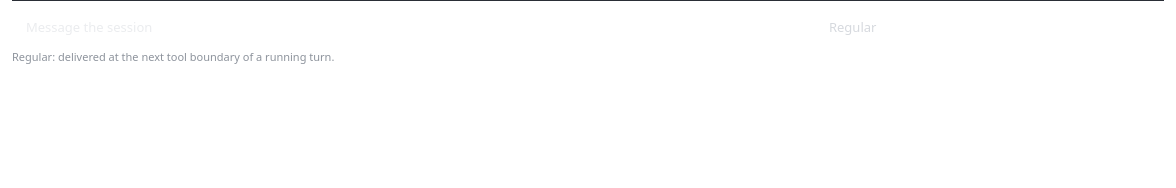
Composer › lane defaults to regular and the options are idle, regular and priority
This screenshot has width=1176, height=188.
Step 1. Press the mouse on the dropdown named "Lane" → (853,26), box [829,18,876,36]
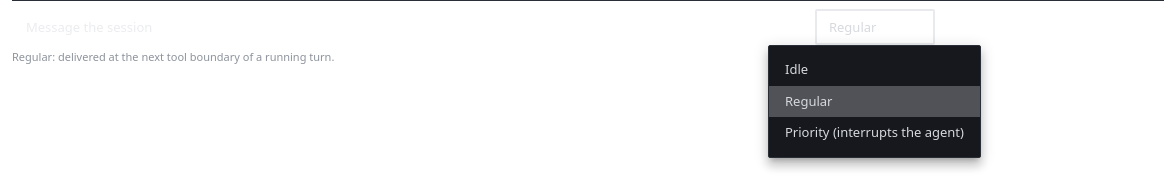
Expected: the options read "Idle", "Regular", "Priority (interrupts the agent)", in this order, [785,60,808,78]; [769,86,980,117]; [785,123,964,141]
